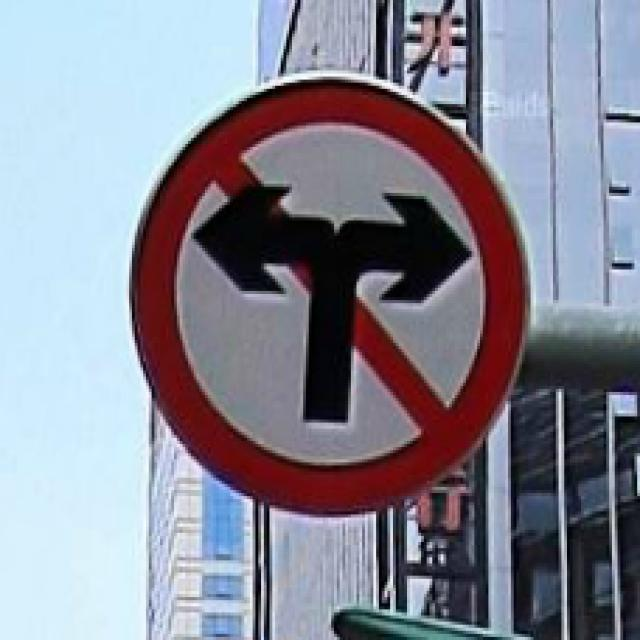Not that Direction: (138, 66, 531, 510)
